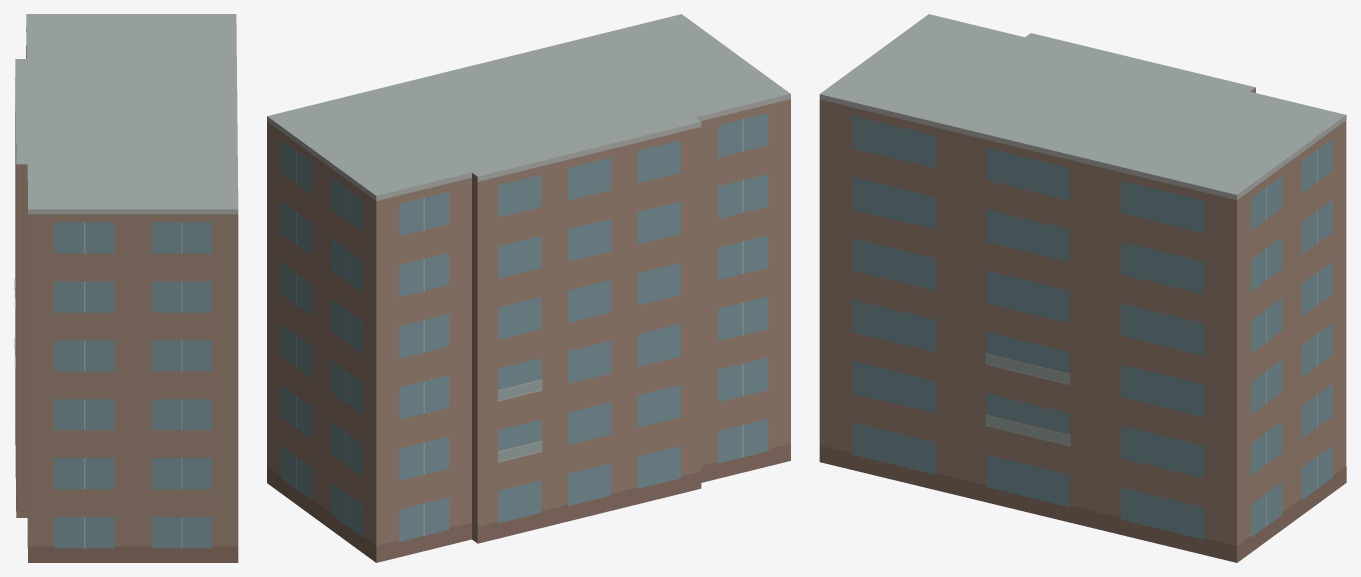
The model's file is survey-upis-32670088.glb.
3 renders of one model, left to right at view 1: azimuth 30°, elevation 25°; view 2: azimuth 150°, elevation 25°; view 3: azimuth 270°, elevation 25°, orthographic. The views are drawn at different scales.
Parts seen in each view (by area): view 1: survey-upis-32670088.tmp; view 2: survey-upis-32670088.tmp; view 3: survey-upis-32670088.tmp.
Part boxes in pixels (left/top/right/bottom): survey-upis-32670088.tmp: left=14, top=14, right=238, bottom=562; survey-upis-32670088.tmp: left=267, top=14, right=790, bottom=562; survey-upis-32670088.tmp: left=819, top=14, right=1346, bottom=562.
Size of the model in its own units: 18.21 by 17.25 by 22.4.
